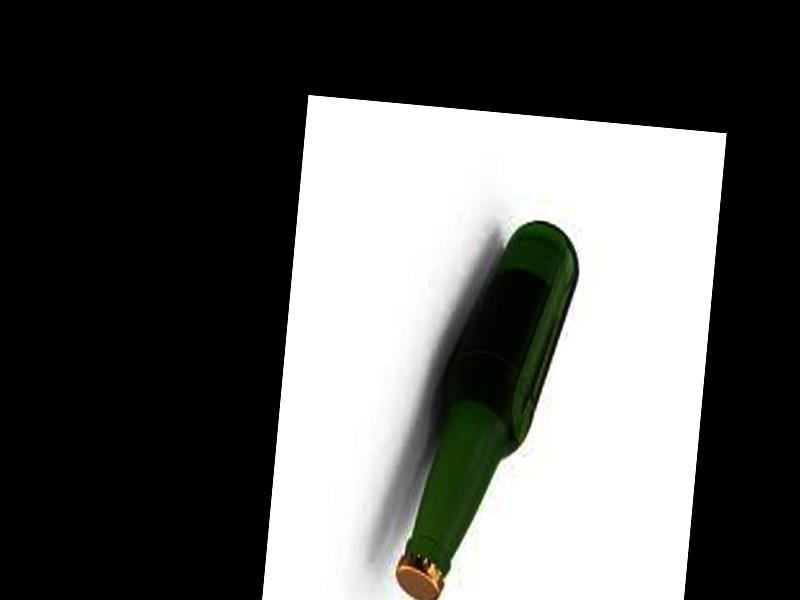Beer: (392, 210, 582, 600)
